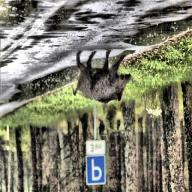boar: (69, 39, 147, 129)
